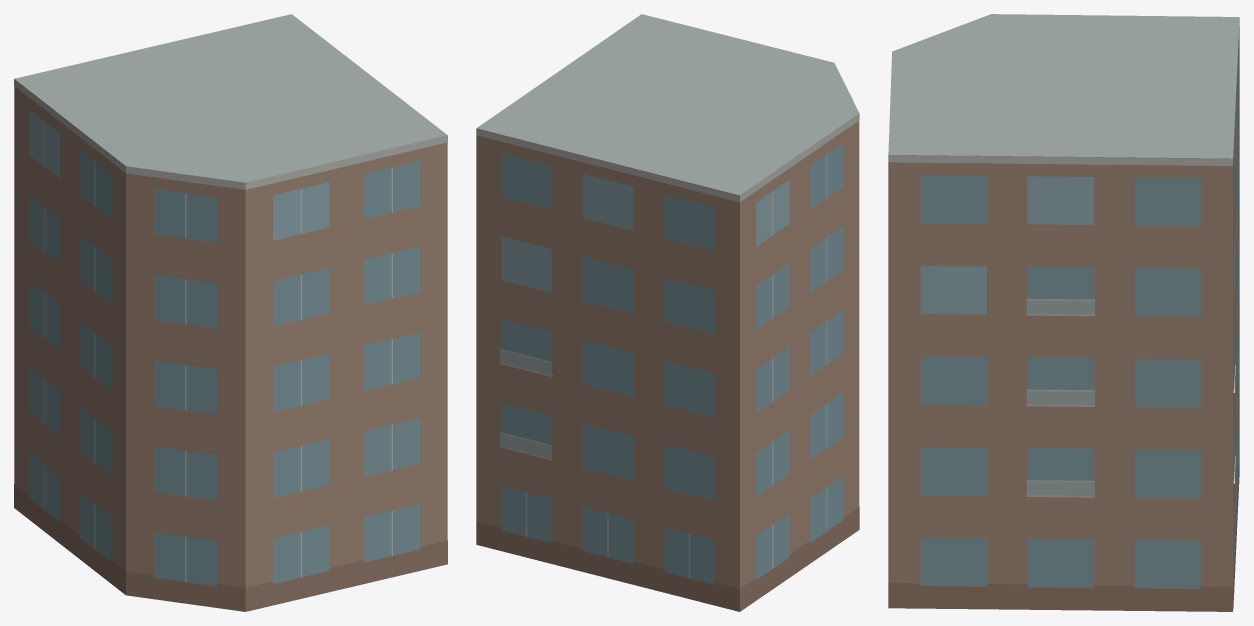
File: survey-upis-33018112.glb
3 views of the same model, side by side, from view 1: azimuth 30°, elevation 25°; view 2: azimuth 150°, elevation 25°; view 3: azimuth 270°, elevation 25° (orthographic). The views are drawn at different scales.
Visible parts, largest first — view 1: survey-upis-33018112.tmp; view 2: survey-upis-33018112.tmp; view 3: survey-upis-33018112.tmp.
Boxes of the visible parts, x1,y1,x2,y2 form: survey-upis-33018112.tmp: (14, 14, 447, 611); survey-upis-33018112.tmp: (476, 14, 859, 611); survey-upis-33018112.tmp: (888, 14, 1239, 611).
Size of the model in its own units: 9.99 by 14.6 by 10.26.
